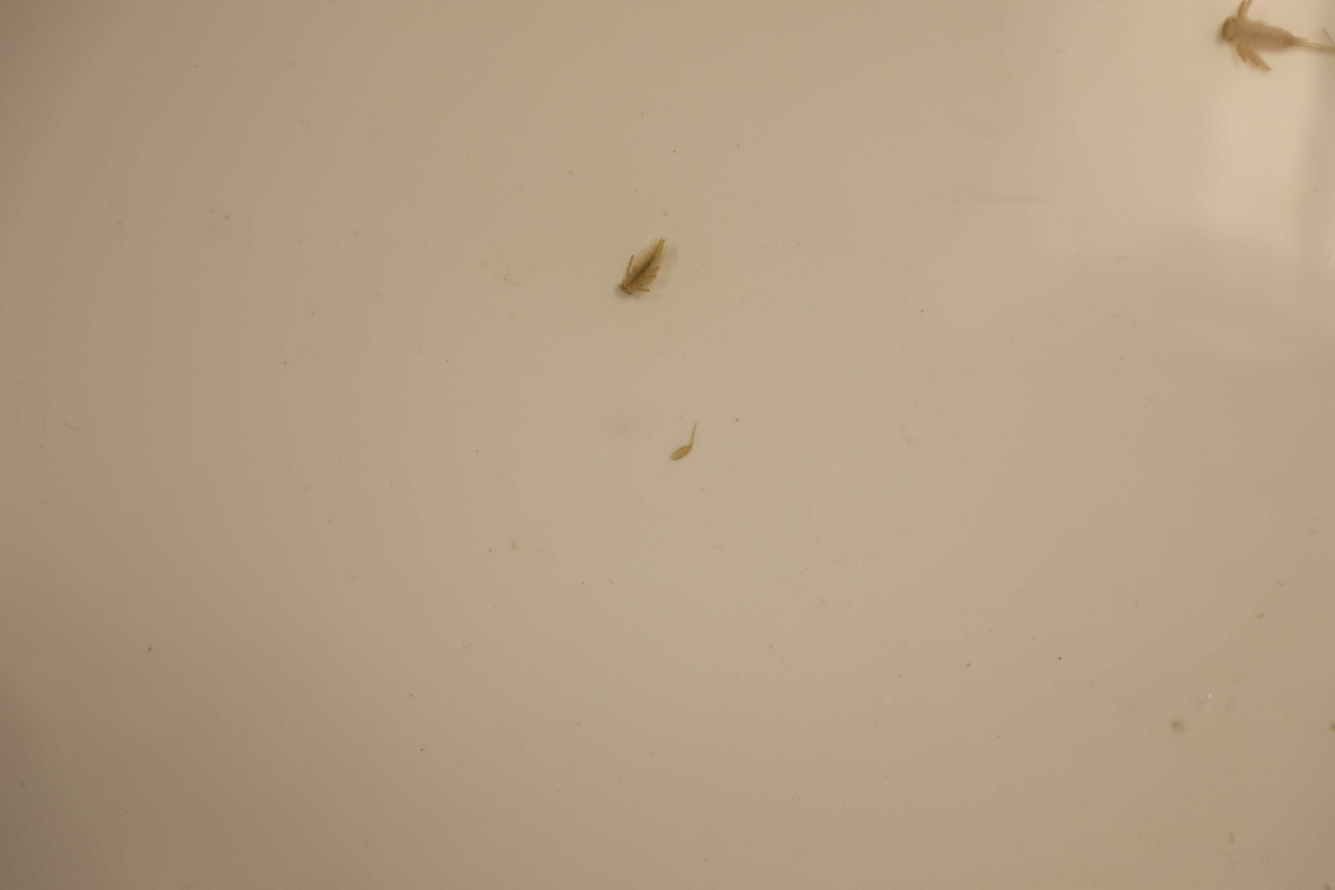Mayfly: (1209, 0, 1334, 81), (617, 232, 669, 298), (670, 422, 700, 466)
